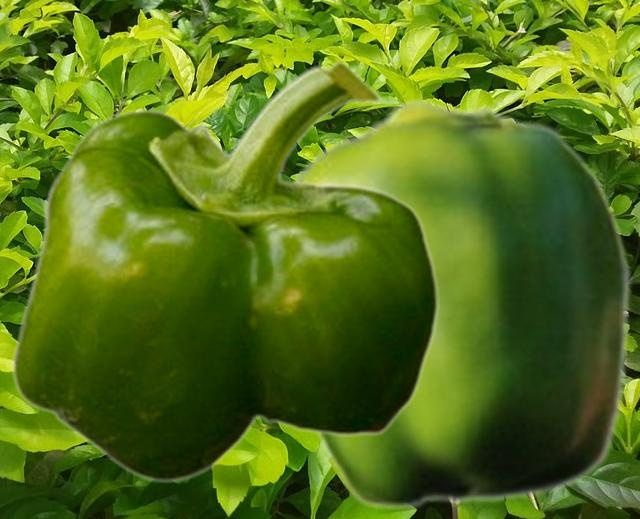bell_pepper: (11, 60, 438, 483), (288, 97, 631, 510)
